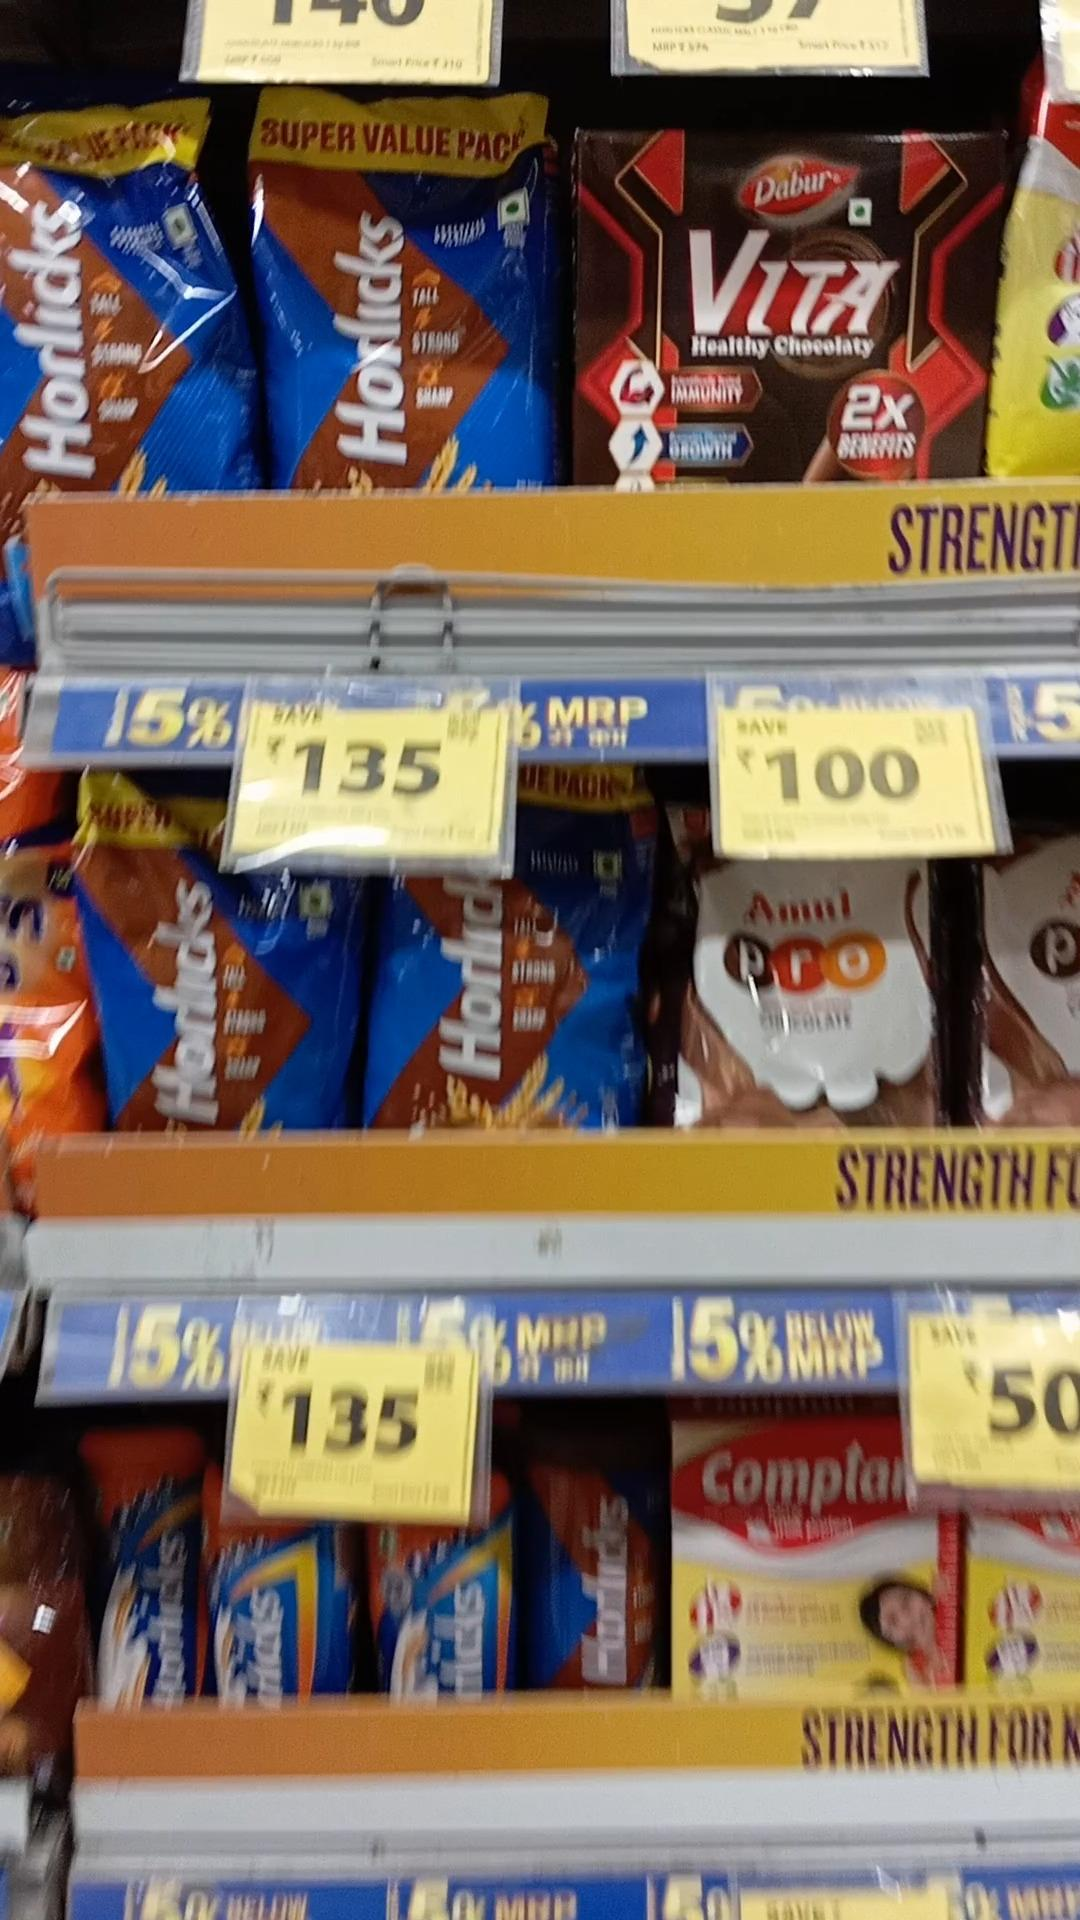HORLICK_CHOCOLATE_500_G_JAR: (526, 1443, 667, 1702)
HORLICK_CHOCOLATE_750_G_POUCH: (257, 90, 539, 484), (67, 766, 343, 1130), (0, 86, 236, 496), (397, 766, 644, 1147)
